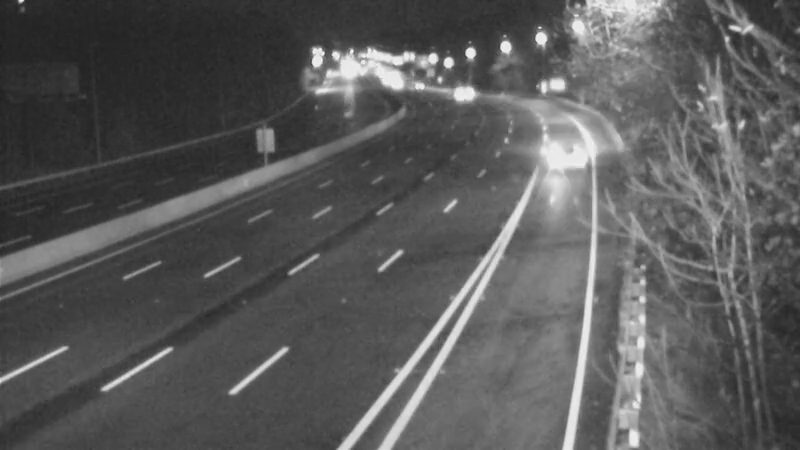vehicle: (512, 117, 592, 197), (391, 62, 441, 112), (433, 69, 483, 119)
